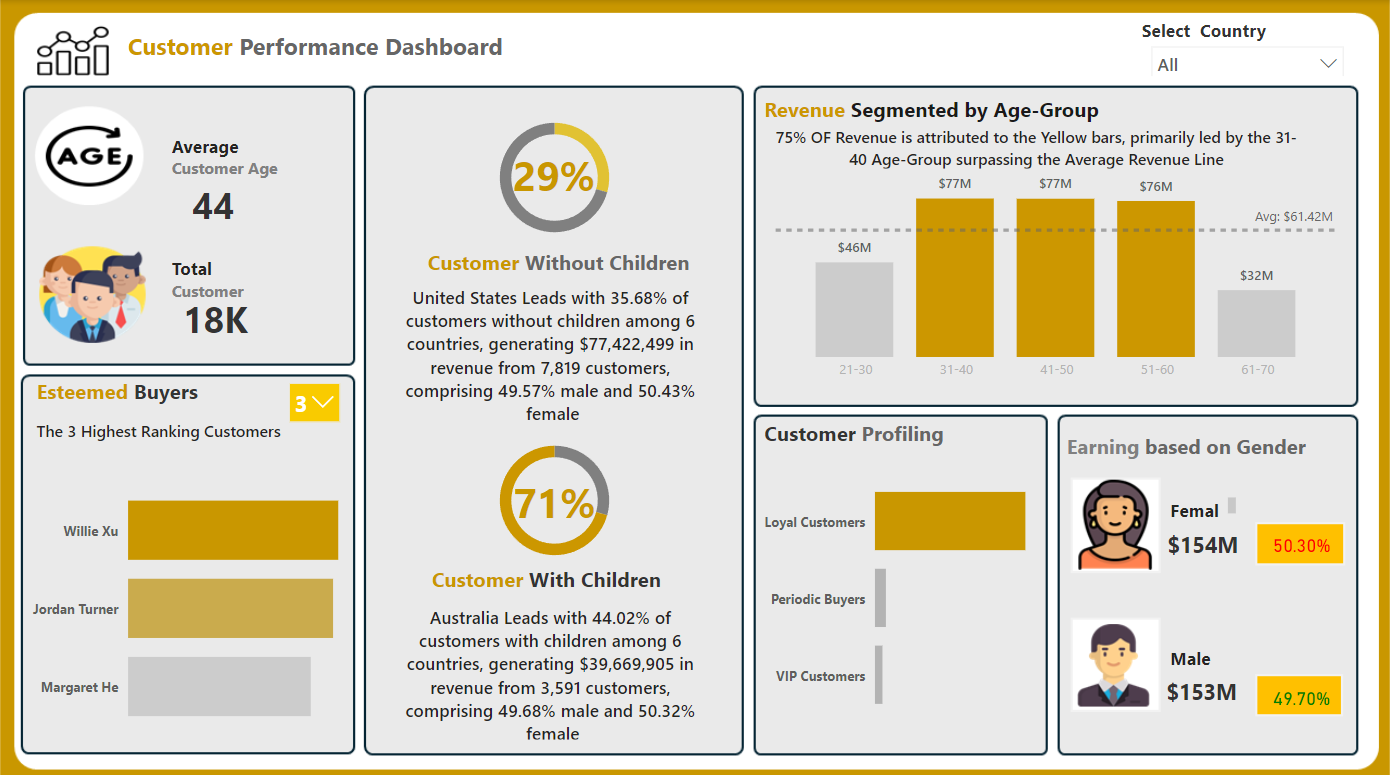

The page's visual inventory and layout, read from the dashboard file:
{"tool":"powerbi","page":{"name":"Customer Performance","canvas":[1280,720],"ordinal":0},"visuals":[{"type":"clusteredColumnChart","fields":{"Category":["DimCustomer.Age Category"],"Y":["All Measures.Total Revenue","All Measures.Total Revenue"]},"box":[708.6,147.1,528.6,212.9],"z":0},{"type":"cardVisual","fields":{"Data":["Customer Measures.Avg Caption","Customer Measures.Avg Caption"]},"box":[698.6,92.9,511.4,77.1],"z":1000},{"type":"textbox","box":[698.6,82.9,351.4,35.7],"z":2000},{"type":"donutChart","fields":{"Y":["Customer Measures.% C without Children","Customer Measures.% CWC"]},"box":[411.4,95.7,198,136],"z":3000},{"type":"donutChart","fields":{"Y":["Customer Measures.% C without Children","Customer Measures.% CWC"]},"box":[411.4,392.9,198,136],"z":4000},{"type":"card","fields":{"Values":["Customer Measures.% C without Children"]},"box":[465.7,127.1,88.6,68.6],"z":5000},{"type":"card","fields":{"Values":["Customer Measures.% CWC"]},"box":[456.9,418.6,107,85.7],"z":6000},{"type":"textbox","box":[388.9,222.9,267.1,48.6],"z":7000},{"type":"textbox","box":[392.5,515.7,260,50],"z":8000},{"type":"card","fields":{"Values":["Customer Measures.Caption Customer Without Children"]},"box":[342.9,240,332.9,152.9],"z":9000},{"type":"card","fields":{"Values":["Customer Measures.Caption Customer With Children"]},"box":[342.9,535.7,332.9,150],"z":10000},{"type":"clusteredBarChart","fields":{"Y":["All Measures.Total Revenue"],"Category":["DimCustomer.Customer Type"]},"box":[697.9,411.9,265,272.9],"z":11000},{"type":"clusteredBarChart","fields":{"Category":["DimCustomer.Full Name"],"Y":["Customer Measures.Dynamic customers"]},"box":[24.3,418.6,298.6,277.1],"z":12000},{"type":"slicer","fields":{"Values":["Dynamic Customers.Dynamic Customers"]},"box":[255.7,342.9,67.1,50],"z":13000},{"type":"card","fields":{"Values":["Customer Measures.% Male"]},"box":[1161.4,624.3,75.7,40],"z":14000},{"type":"card","fields":{"Values":["Customer Measures.% Female"]},"box":[1161.4,487.1,75.7,32.9],"z":15000},{"type":"card","fields":{"Values":["Customer Measures.Average Customer Age"]},"box":[161.4,164.3,68.6,48.6],"z":16000},{"type":"card","fields":{"Values":["Customer Measures.#Customers"]},"box":[152.9,271.4,90,45.7],"z":17000},{"type":"textbox","box":[152.9,118.6,115.7,60],"z":18000},{"type":"textbox","box":[152.9,231.4,94.3,57.1],"z":19000},{"type":"card","fields":{"Values":["Customer Measures.Title Top Customers"]},"box":[24.3,378.6,244.3,40],"z":20000},{"type":"textbox","box":[28.6,342.9,167.1,37.1],"z":21000},{"type":"textbox","box":[977.1,392.9,260,35.7],"z":22000},{"type":"card","fields":{"Values":["Customer Measures.Female Revenue"]},"box":[1065.7,487.1,84.3,32.9],"z":23000},{"type":"card","fields":{"Values":["Customer Measures.Male Revenue"]},"box":[1068.6,624.3,77.1,30],"z":24000},{"type":"textbox","box":[1072.9,590,57.1,34.3],"z":25000},{"type":"textbox","box":[1072.9,452.9,70,34.3],"z":26000},{"type":"textbox","box":[112.9,22.9,365.7,47.1],"z":27000},{"type":"slicer","fields":{"Values":["DimGeography.Country"]},"box":[1050,32.9,197.1,37.1],"z":28000},{"type":"textbox","box":[1047.1,11.4,162.9,35.7],"z":29000},{"type":"textbox","box":[698.6,381.4,191.4,37.1],"z":30000}]}

Visuals, with their boxes in screenshot pixels (x1, y1, x2, y2), scaled from the page's 1280x720 canvas onto the 1390x775 screenshot:
clusteredColumnChart - DimCustomer.Age Category x All Measures.Total Revenue: [769, 158, 1344, 388]
cardVisual - Customer Measures.Avg Caption x Customer Measures.Avg Caption: [759, 100, 1314, 183]
textbox: [759, 89, 1140, 128]
donutChart - Customer Measures.% C without Children x Customer Measures.% CWC: [447, 103, 662, 249]
donutChart - Customer Measures.% C without Children x Customer Measures.% CWC: [447, 423, 662, 569]
card - Customer Measures.% C without Children: [506, 137, 602, 211]
card - Customer Measures.% CWC: [496, 451, 612, 543]
textbox: [422, 240, 712, 292]
textbox: [426, 555, 709, 609]
card - Customer Measures.Caption Customer Without Children: [372, 258, 734, 423]
card - Customer Measures.Caption Customer With Children: [372, 577, 734, 738]
clusteredBarChart - All Measures.Total Revenue x DimCustomer.Customer Type: [758, 443, 1046, 737]
clusteredBarChart - DimCustomer.Full Name x Customer Measures.Dynamic customers: [26, 451, 351, 749]
slicer - Dynamic Customers.Dynamic Customers: [278, 369, 351, 423]
card - Customer Measures.% Male: [1261, 672, 1343, 715]
card - Customer Measures.% Female: [1261, 524, 1343, 560]
card - Customer Measures.Average Customer Age: [175, 177, 250, 229]
card - Customer Measures.#Customers: [166, 292, 264, 341]
textbox: [166, 128, 292, 192]
textbox: [166, 249, 268, 311]
card - Customer Measures.Title Top Customers: [26, 408, 292, 451]
textbox: [31, 369, 213, 409]
textbox: [1061, 423, 1343, 461]
card - Customer Measures.Female Revenue: [1157, 524, 1249, 560]
card - Customer Measures.Male Revenue: [1160, 672, 1244, 704]
textbox: [1165, 635, 1227, 672]
textbox: [1165, 487, 1241, 524]
textbox: [123, 25, 520, 75]
slicer - DimGeography.Country: [1140, 35, 1354, 75]
textbox: [1137, 12, 1314, 51]
textbox: [759, 411, 966, 450]
